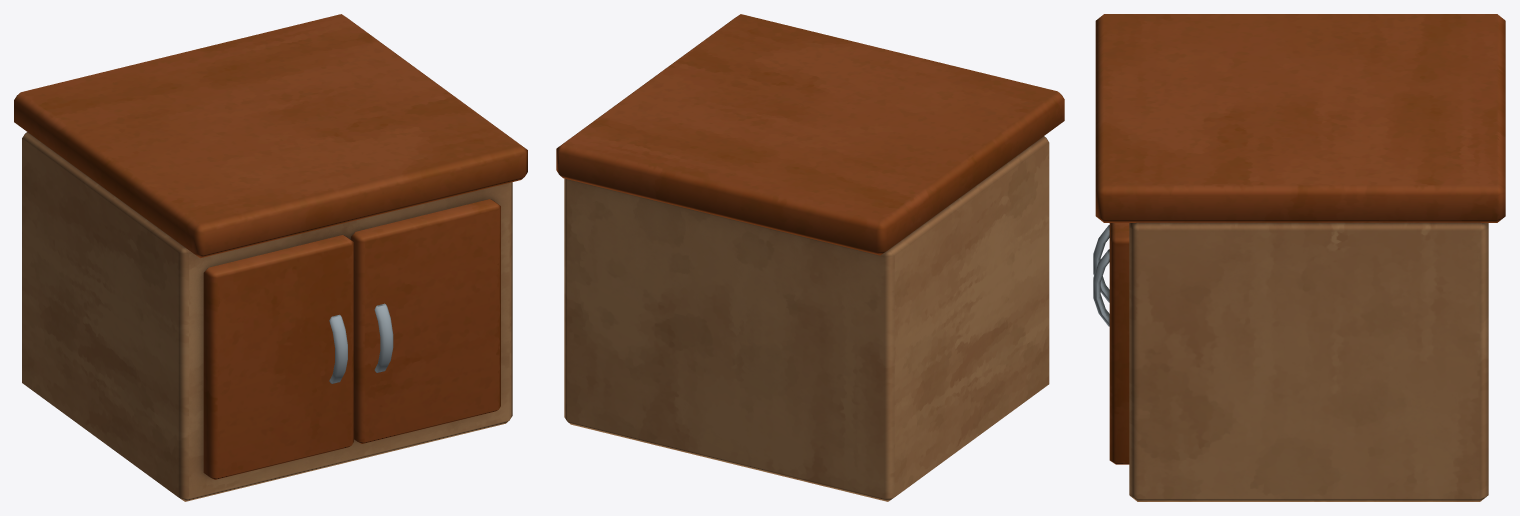
Rendered from PlatesCounter_Visual.glb.
The picture shows the model from 3 angles, left to right: view 1: azimuth 30°, elevation 25°; view 2: azimuth 150°, elevation 25°; view 3: azimuth 270°, elevation 25°; orthographic projection. The views are drawn at different scales.
Parts seen in each view (by area): view 1: KitchenCounter; view 2: KitchenCounter; view 3: KitchenCounter.
Part boxes in pixels (x1,y1,x2,y2): KitchenCounter: (14,14,527,501); KitchenCounter: (556,14,1064,501); KitchenCounter: (1093,14,1505,501).
Size of the model in its own units: 1.53 by 1.26 by 1.49.
Materials: 1 (1 with a texture image).
